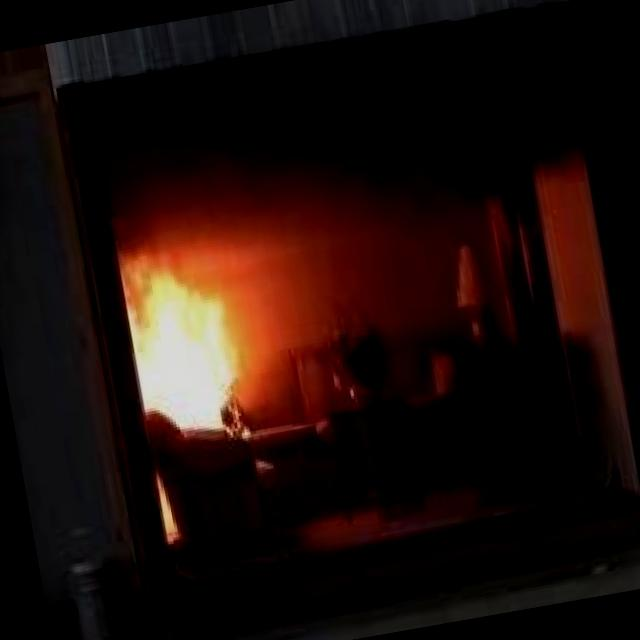fire: (92, 240, 270, 449)
smoke: (56, 0, 613, 299)
